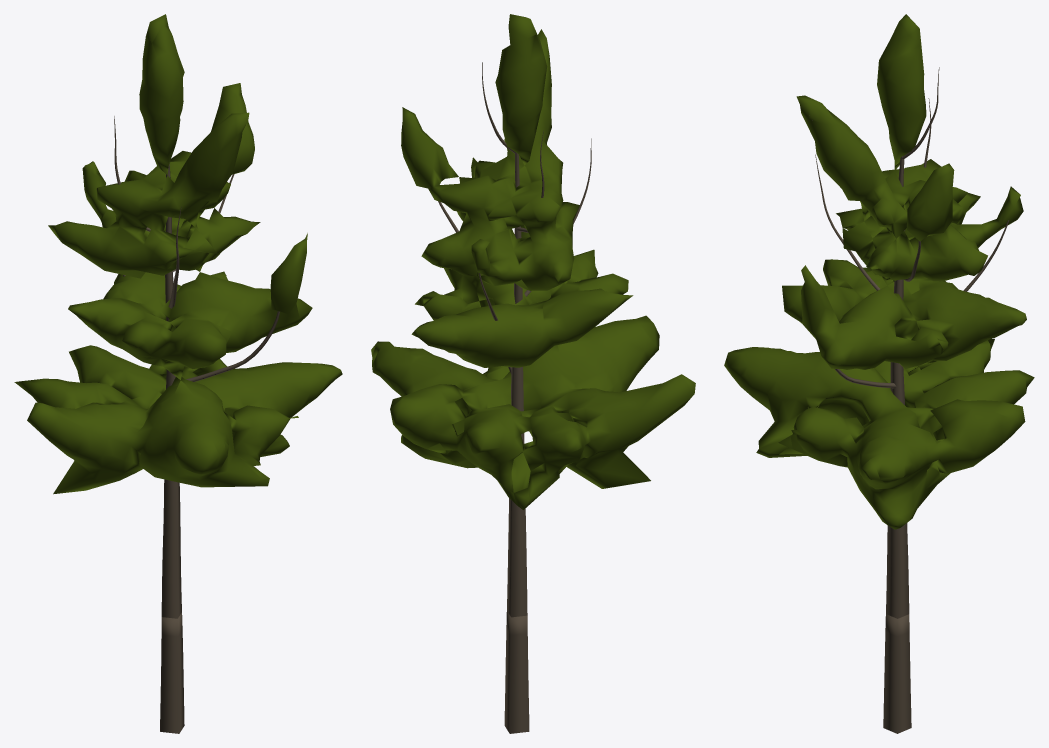
File: ListvenTreeGO1.fbx
3 views of the same model, side by side, from view 1: azimuth 30°, elevation 25°; view 2: azimuth 150°, elevation 25°; view 3: azimuth 270°, elevation 25° (orthographic).
Visible parts, largest first — view 1: Listven Tree foliage, Listven Tree Trunk, Listven Tree stump; view 2: Listven Tree foliage, Listven Tree Trunk, Listven Tree stump; view 3: Listven Tree foliage, Listven Tree Trunk, Listven Tree stump.
Part boxes in pixels (left/top/right/bottom): Listven Tree foliage: left=14, top=14, right=342, bottom=494; Listven Tree Trunk: left=114, top=116, right=279, bottom=618; Listven Tree stump: left=160, top=612, right=184, bottom=733; Listven Tree foliage: left=371, top=14, right=695, bottom=509; Listven Tree Trunk: left=438, top=62, right=591, bottom=617; Listven Tree stump: left=504, top=611, right=529, bottom=733; Listven Tree foliage: left=724, top=14, right=1034, bottom=529; Listven Tree Trunk: left=809, top=67, right=1009, bottom=618; Listven Tree stump: left=883, top=614, right=911, bottom=733.
Bounding box in the file's own units: 273 × 582 × 232.
